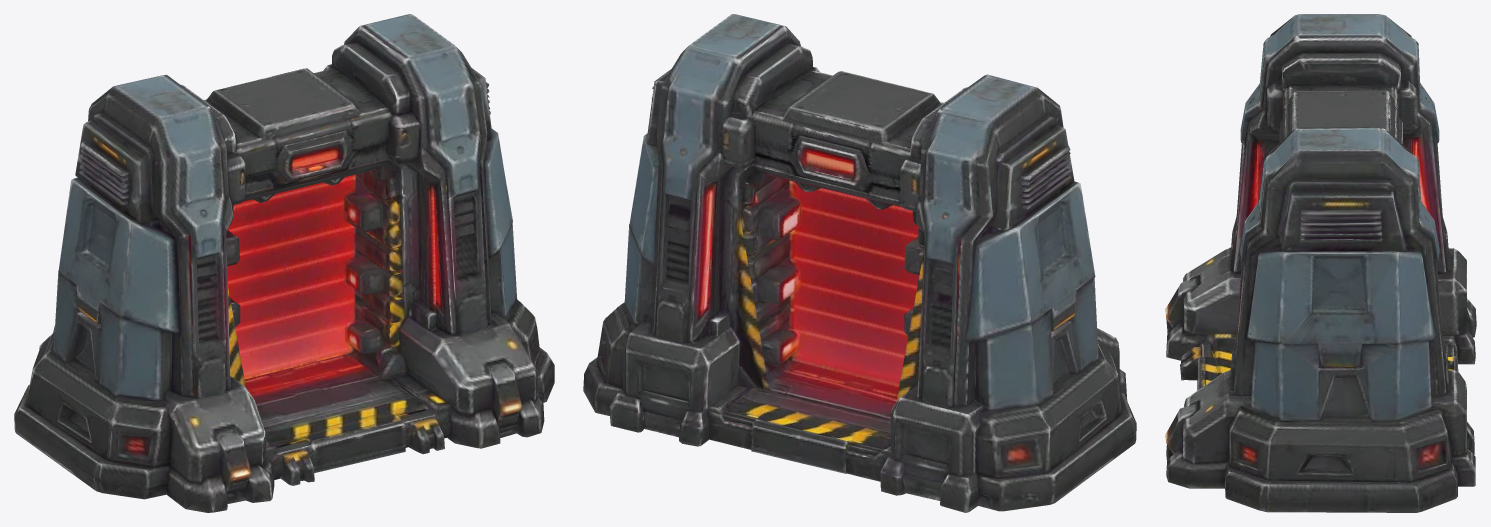
File: gates.glb
3 renders of one model, left to right at view 1: azimuth 30°, elevation 25°; view 2: azimuth 150°, elevation 25°; view 3: azimuth 270°, elevation 25°, orthographic. The views are drawn at different scales.
Visible parts, largest first — view 1: mesh_node; view 2: mesh_node; view 3: mesh_node.
Part boxes in pixels (bbox=[...]): mesh_node: bbox=[14, 14, 554, 512]; mesh_node: bbox=[583, 14, 1136, 512]; mesh_node: bbox=[1165, 14, 1476, 512].
Bounding box in the file's own units: 0.998 × 0.711 × 0.6172.
Materials: 1 (1 with a texture image).
